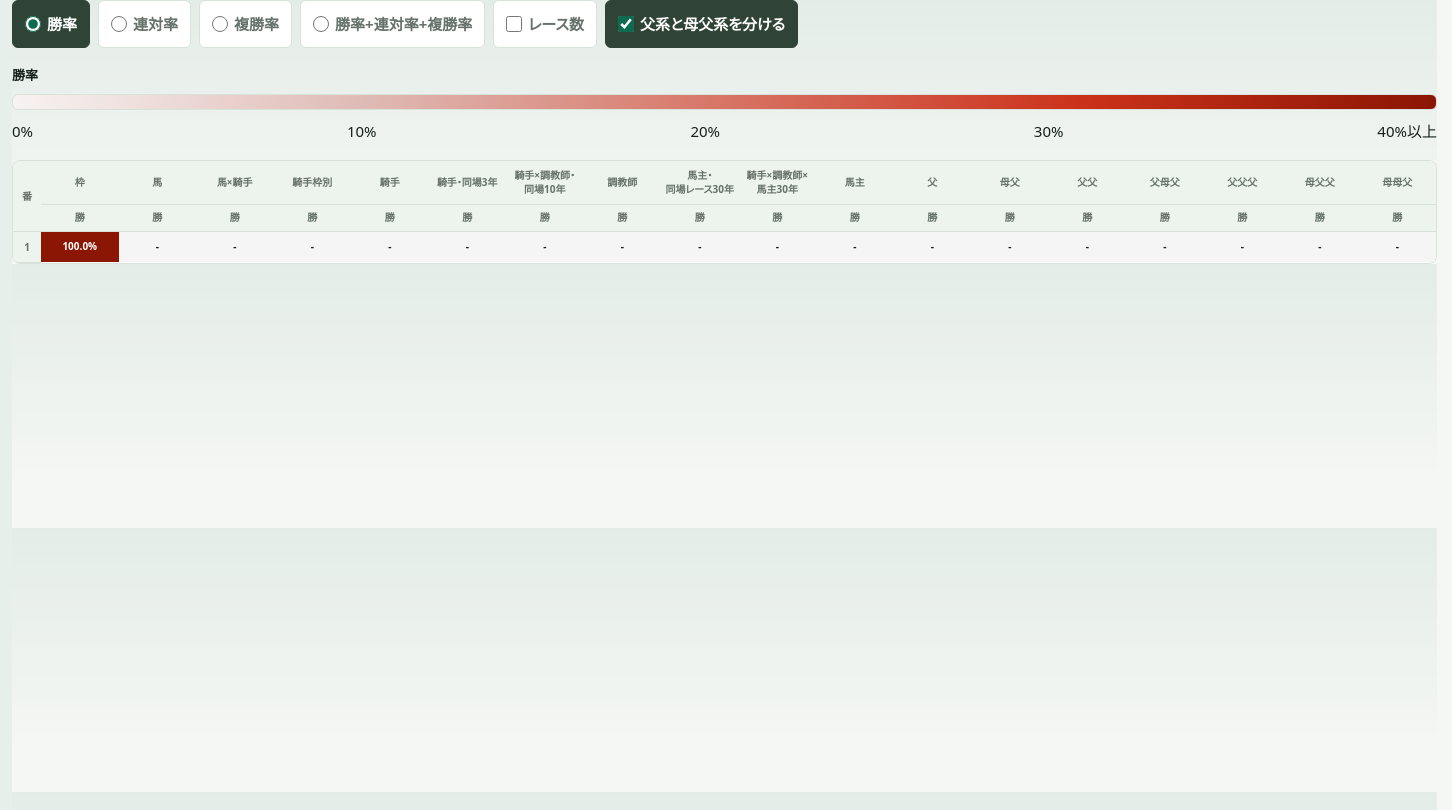
it: keeps three-digit combined heatmap values at one decimal place
This screenshot has width=1452, height=810.
Step 1. Click the radio button labelled "勝率+連対率+複勝率" → (321, 24), box [313, 16, 329, 32]
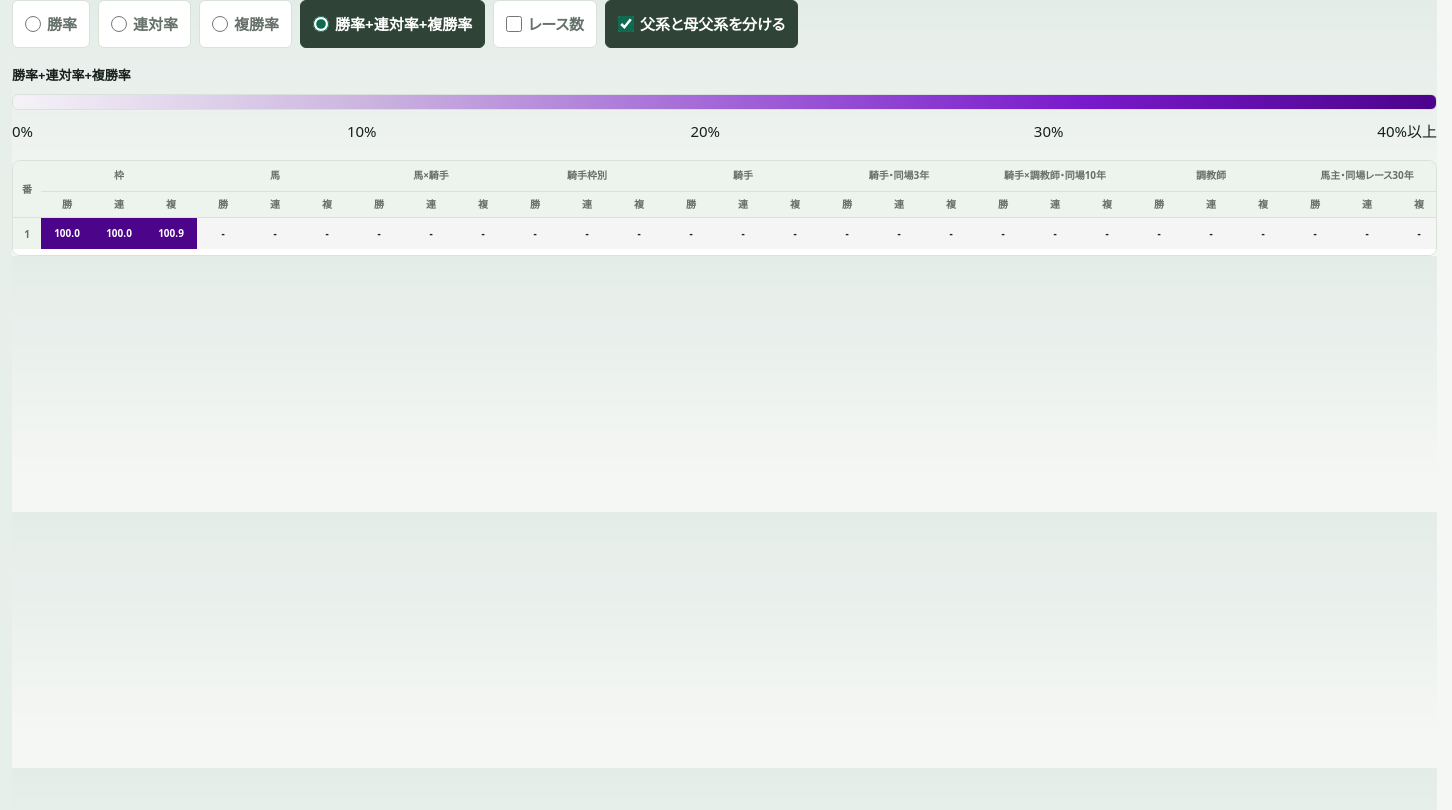
Expected: the text "100.0" is shown 2 times, [54, 226, 80, 240]; [106, 226, 132, 240]
Expected: the text "100.9" is shown, [158, 226, 184, 240]
